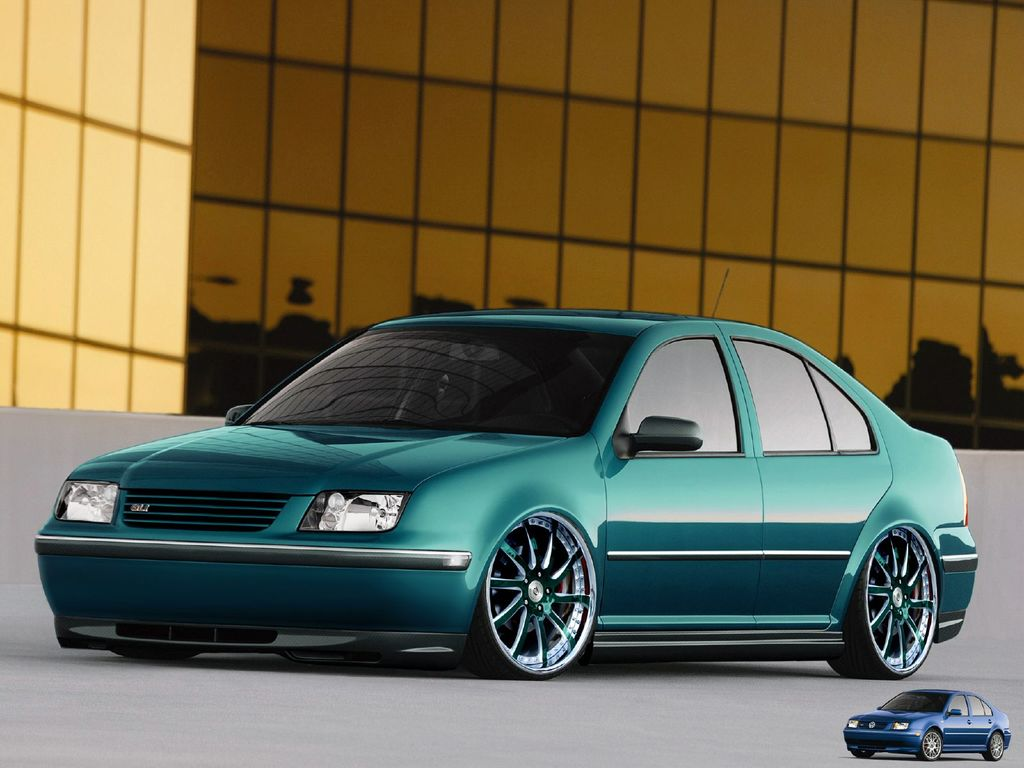Car: (32, 268, 980, 686), (844, 686, 1013, 764)
